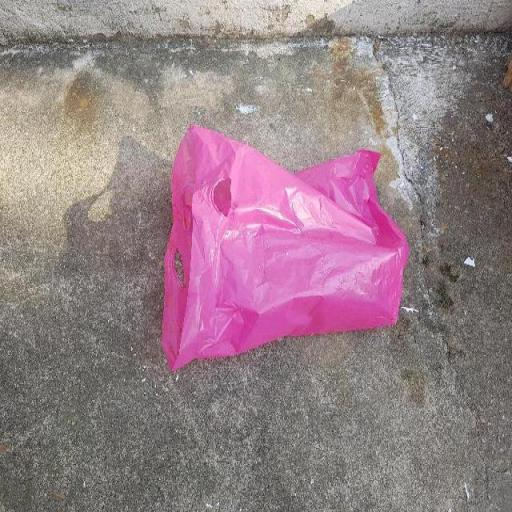polythene: (162, 126, 408, 370)
